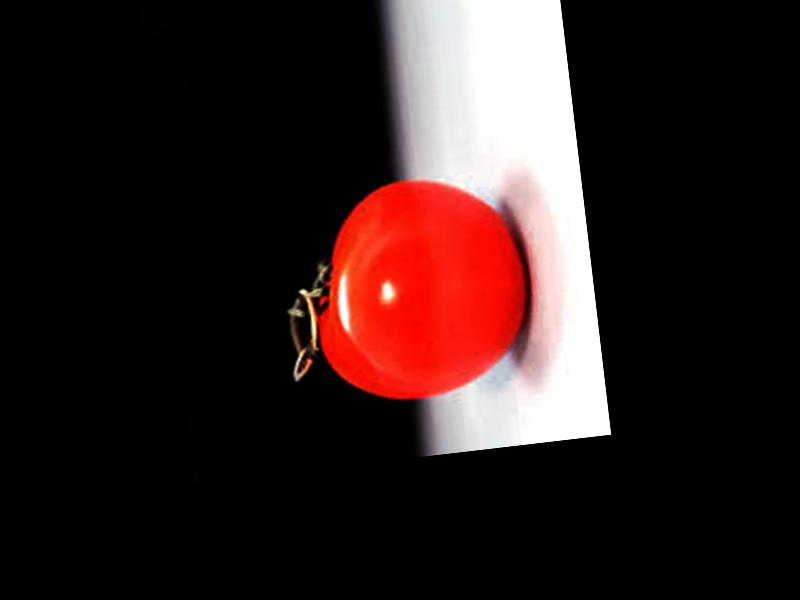Tomato: (301, 166, 538, 410)
